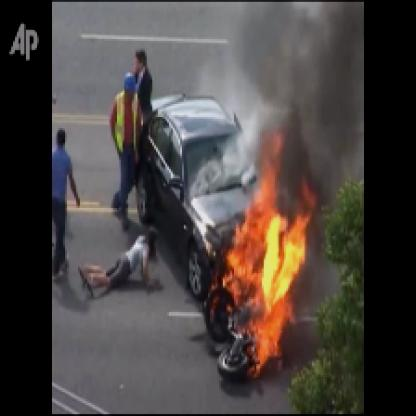Fire: (212, 130, 316, 384)
Smoke: (242, 2, 362, 180)
